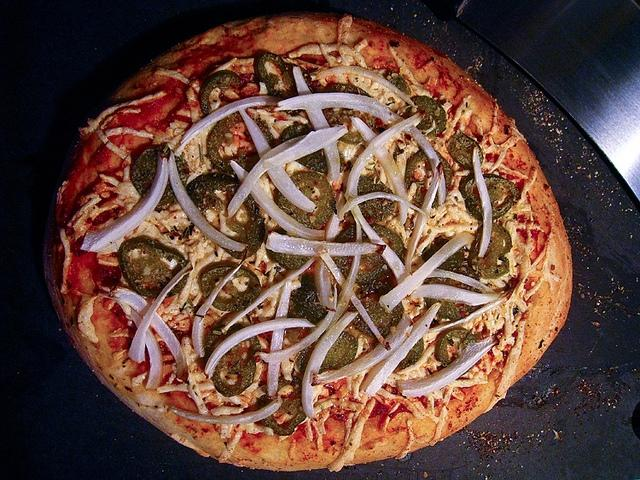onion: (274, 92, 446, 206), (80, 151, 168, 252), (238, 109, 318, 212), (168, 150, 248, 252), (361, 302, 442, 398), (380, 231, 474, 313), (230, 160, 325, 241), (312, 314, 416, 386), (112, 287, 188, 382), (222, 258, 315, 332), (317, 248, 386, 347), (205, 318, 316, 378), (255, 282, 338, 362), (228, 135, 308, 218), (128, 263, 192, 363), (346, 113, 421, 197), (396, 337, 500, 397), (352, 117, 408, 226), (302, 311, 358, 419), (178, 96, 288, 148), (293, 65, 340, 182), (192, 264, 242, 358), (312, 66, 418, 107), (406, 162, 444, 276), (262, 125, 348, 169), (165, 395, 282, 424), (266, 230, 386, 256), (267, 279, 292, 397), (128, 308, 162, 389), (426, 300, 503, 332), (336, 192, 432, 216), (472, 144, 492, 258), (411, 284, 502, 306), (427, 268, 498, 294), (313, 257, 335, 312), (324, 210, 344, 243)
